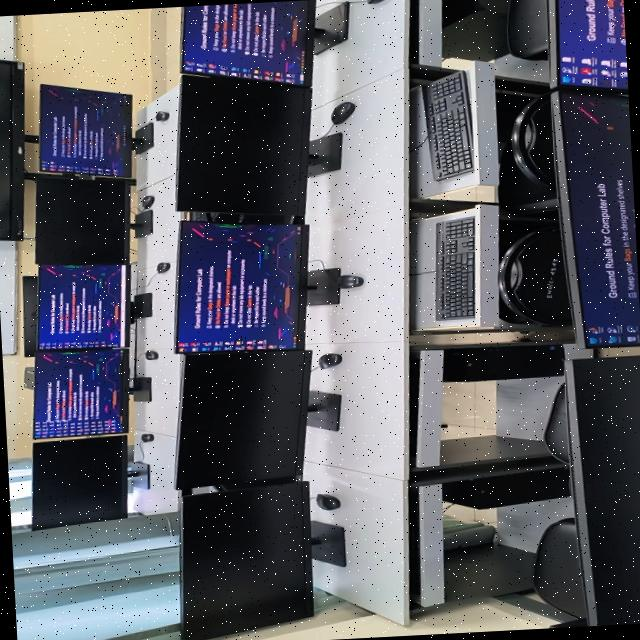Chair: (497, 228, 571, 327), (533, 518, 586, 618), (510, 94, 555, 189), (506, 0, 547, 60), (543, 383, 569, 465)
Cpu: (443, 468, 568, 509), (444, 345, 563, 382), (441, 0, 509, 62)
Digital board: (0, 60, 37, 241)
Keyboard: (421, 72, 472, 181), (434, 218, 474, 321)
Monitor: (557, 92, 640, 347), (180, 482, 312, 640), (565, 356, 640, 626), (176, 76, 310, 223), (176, 350, 310, 489), (173, 222, 306, 354), (180, 0, 315, 86), (32, 436, 127, 531), (39, 85, 131, 178), (32, 350, 128, 439), (34, 177, 129, 265), (37, 266, 127, 350), (556, 0, 628, 90), (21, 276, 36, 357)
Mouse: (330, 102, 354, 125), (337, 275, 363, 289), (315, 495, 339, 510), (317, 354, 341, 369), (141, 196, 153, 209), (156, 263, 170, 274), (154, 111, 168, 121), (140, 434, 153, 443), (144, 351, 157, 360), (366, 0, 383, 4)
